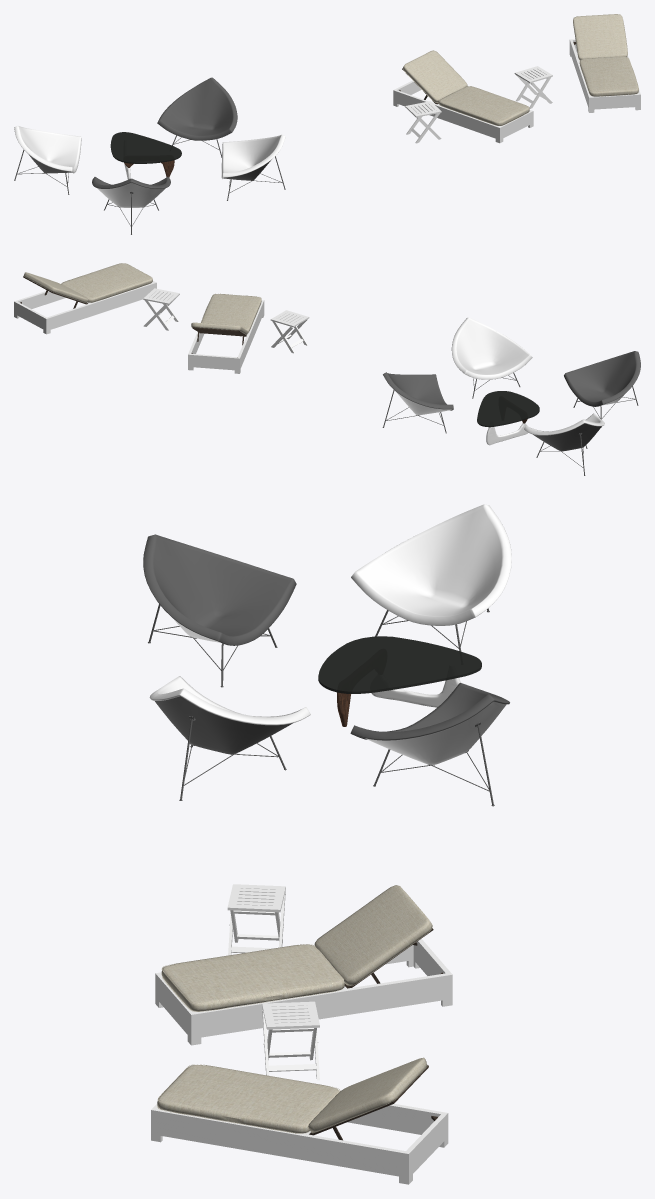
Rendered from swimmingPool.gltf.
The picture shows the model from 3 angles, top to bottom: view 1: azimuth 30°, elevation 25°; view 2: azimuth 150°, elevation 25°; view 3: azimuth 270°, elevation 25°; orthographic projection. The views are drawn at different scales.
Visible parts, largest first — view 1: P-Lounger, P-Chair; view 2: P-Chair, P-Lounger; view 3: P-Lounger, P-Chair.
Boxes of the visible parts, x1=… form: P-Lounger: x1=393, y1=14, x2=640, y2=143; P-Chair: x1=14, y1=77, x2=285, y2=234; P-Chair: x1=382, y1=317, x2=640, y2=475; P-Lounger: x1=14, y1=263, x2=309, y2=373; P-Lounger: x1=151, y1=884, x2=452, y2=1184; P-Chair: x1=143, y1=504, x2=511, y2=806.
Bounding box in the file's own units: 9.1 × 0.8058 × 2.46.
6 materials, 3 textured.
